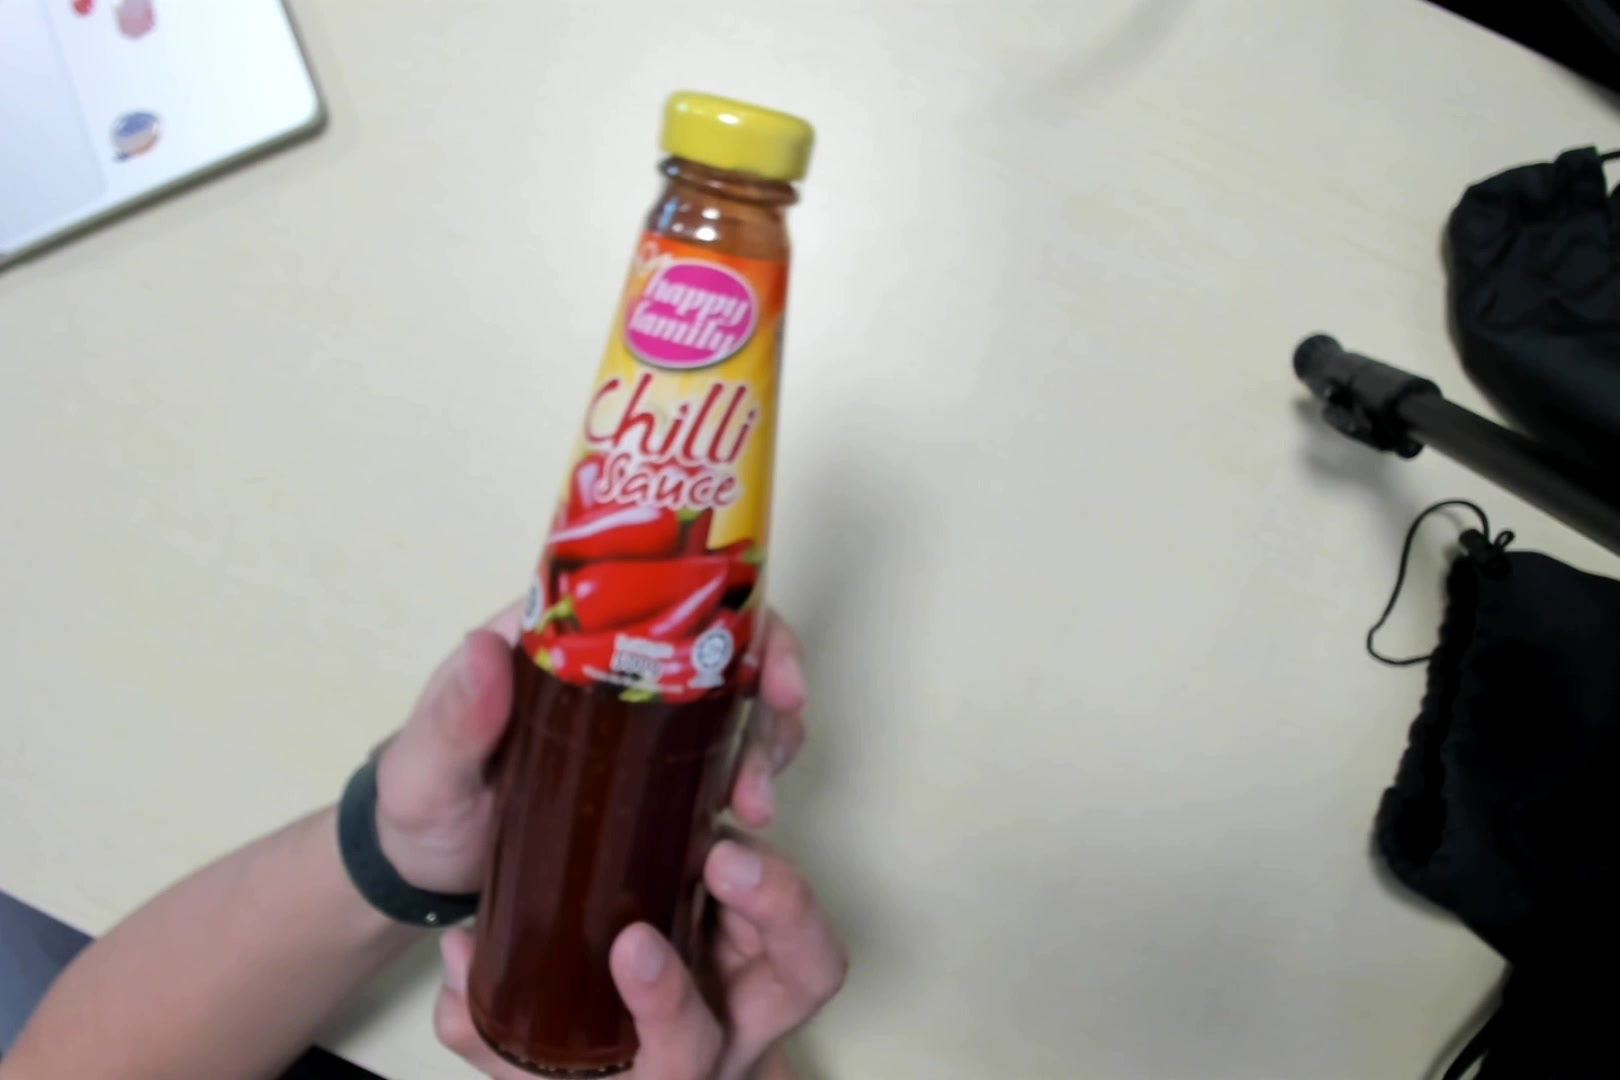KetchupChillSauce_500-599g_Halal_NonHealthy: (472, 92, 805, 1062)
